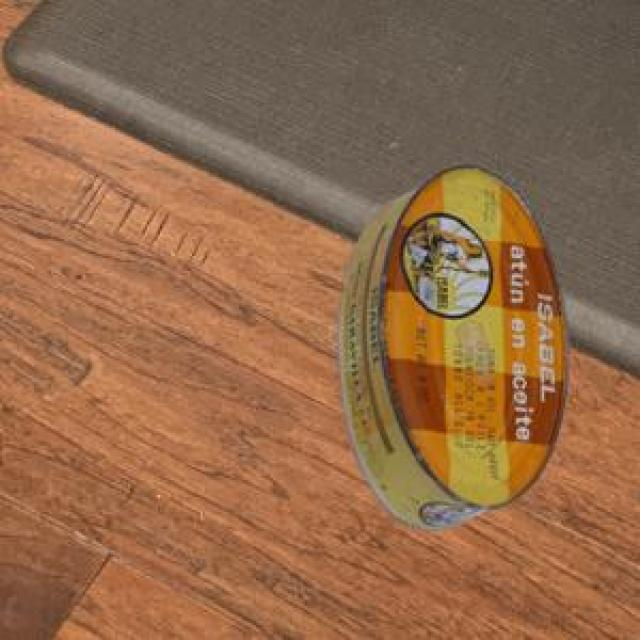Can: (336, 161, 564, 528)
